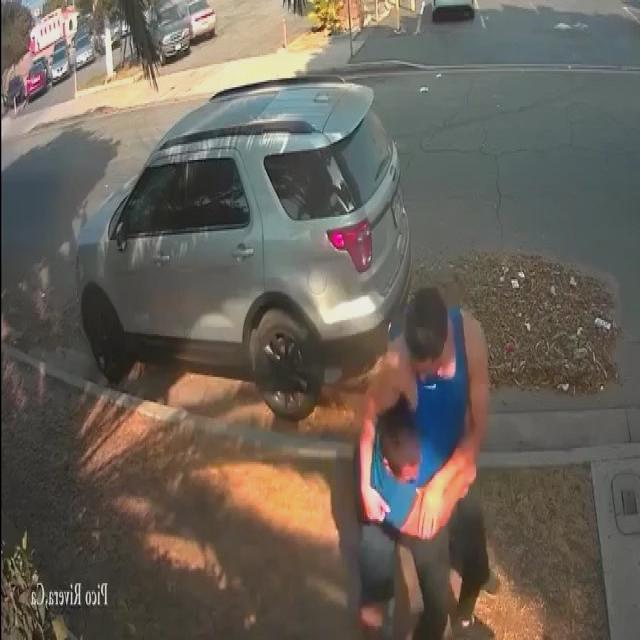fight: (334, 254, 521, 628)
